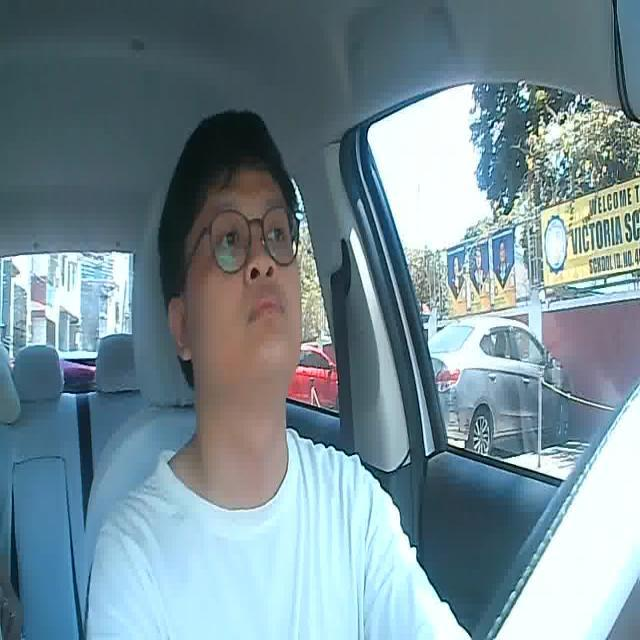Eye-Open: (219, 226, 241, 250), (269, 223, 288, 244)
Inattentive: (158, 108, 303, 385)
Normal: (250, 292, 289, 328)
